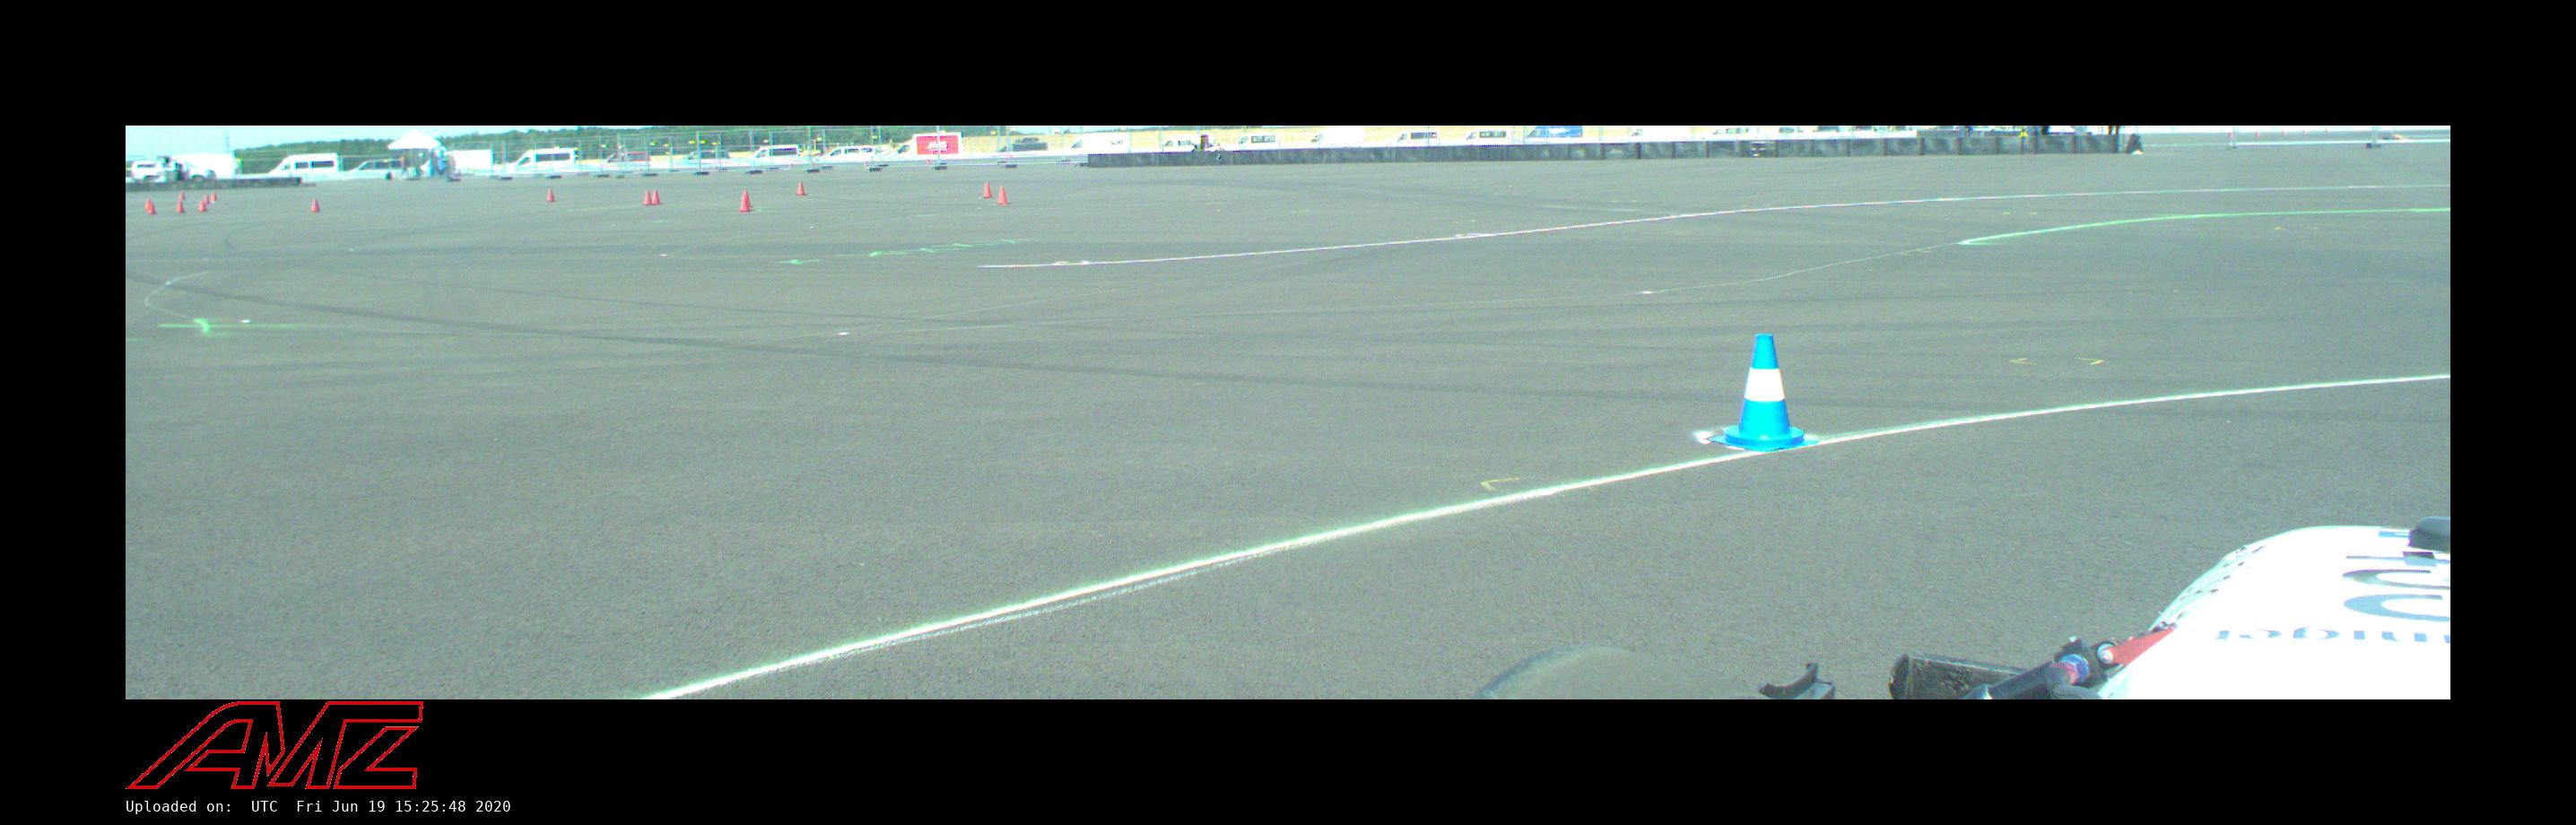blue_cone: (1709, 335, 1819, 452)
unknown_cone: (738, 192, 754, 212), (996, 186, 1009, 204), (981, 182, 992, 197), (795, 181, 807, 196), (309, 199, 320, 212), (641, 191, 652, 204), (174, 199, 184, 212), (651, 189, 659, 202), (545, 189, 554, 200), (210, 191, 218, 202), (202, 192, 210, 204), (148, 202, 156, 214), (199, 200, 207, 210), (177, 191, 184, 200), (145, 197, 150, 210)
